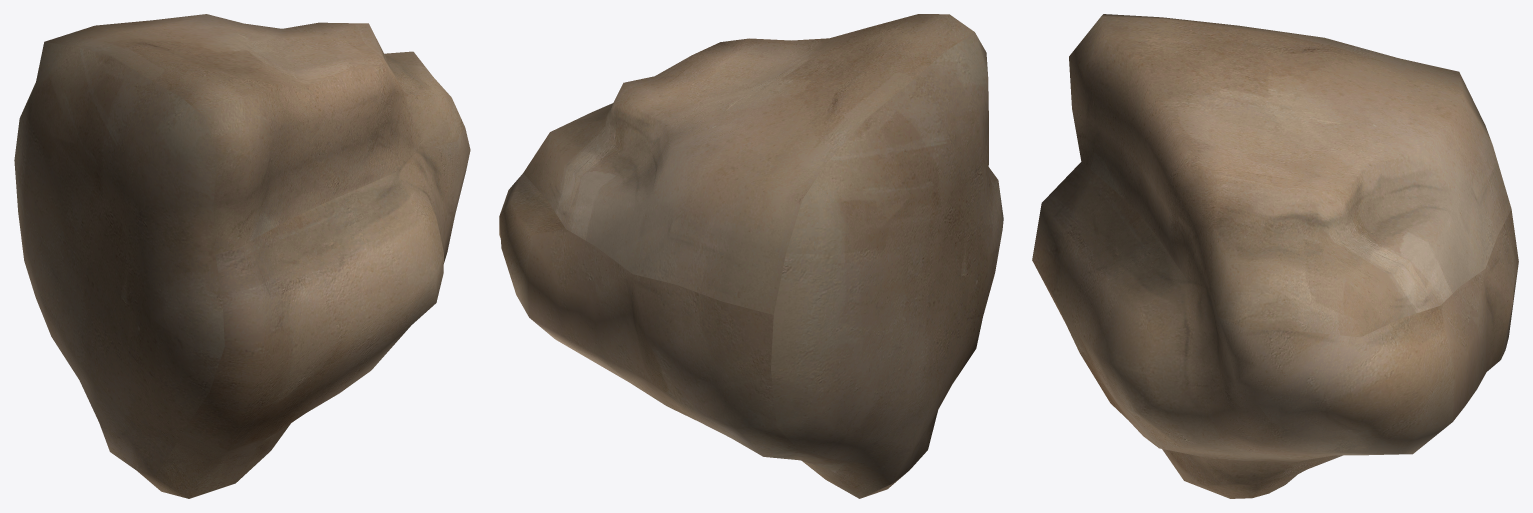
File: props_coalmines_boulder1.glb
The picture shows the model from 3 angles, left to right: view 1: azimuth 30°, elevation 25°; view 2: azimuth 150°, elevation 25°; view 3: azimuth 270°, elevation 25°; orthographic projection. The views are drawn at different scales.
Visible parts, largest first — view 1: models/props_coalmines/boulder1; view 2: models/props_coalmines/boulder1; view 3: models/props_coalmines/boulder1.
Part boxes in pixels (left/top/right/bottom): models/props_coalmines/boulder1: left=14, top=14, right=470, bottom=498; models/props_coalmines/boulder1: left=499, top=14, right=1003, bottom=498; models/props_coalmines/boulder1: left=1032, top=14, right=1518, bottom=498.
Size of the model in its own units: 103 by 108 by 103.
1 material, 1 textured.
